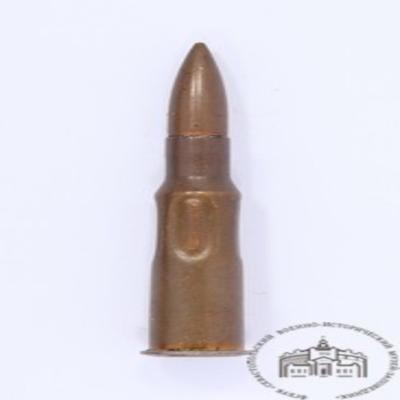weapon: (141, 43, 246, 357)
